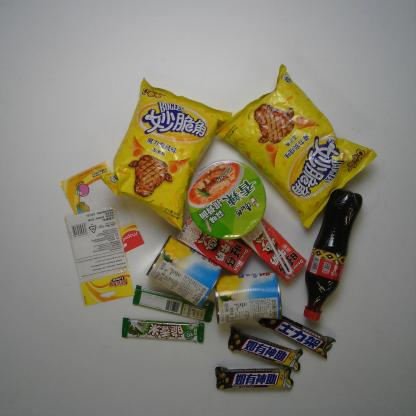Canned Food: (145, 235, 225, 309), (213, 271, 283, 325)
Chocolate: (258, 314, 336, 360), (227, 326, 303, 371), (132, 284, 215, 323), (121, 317, 205, 344), (214, 365, 294, 390)
Drink: (302, 188, 364, 322)
Instant Noodles: (187, 158, 267, 241)
Milk: (176, 213, 252, 275), (240, 217, 307, 282)
Puffed Food: (214, 61, 378, 228), (99, 76, 234, 232)
Stationery: (59, 160, 146, 254), (64, 205, 136, 307)
